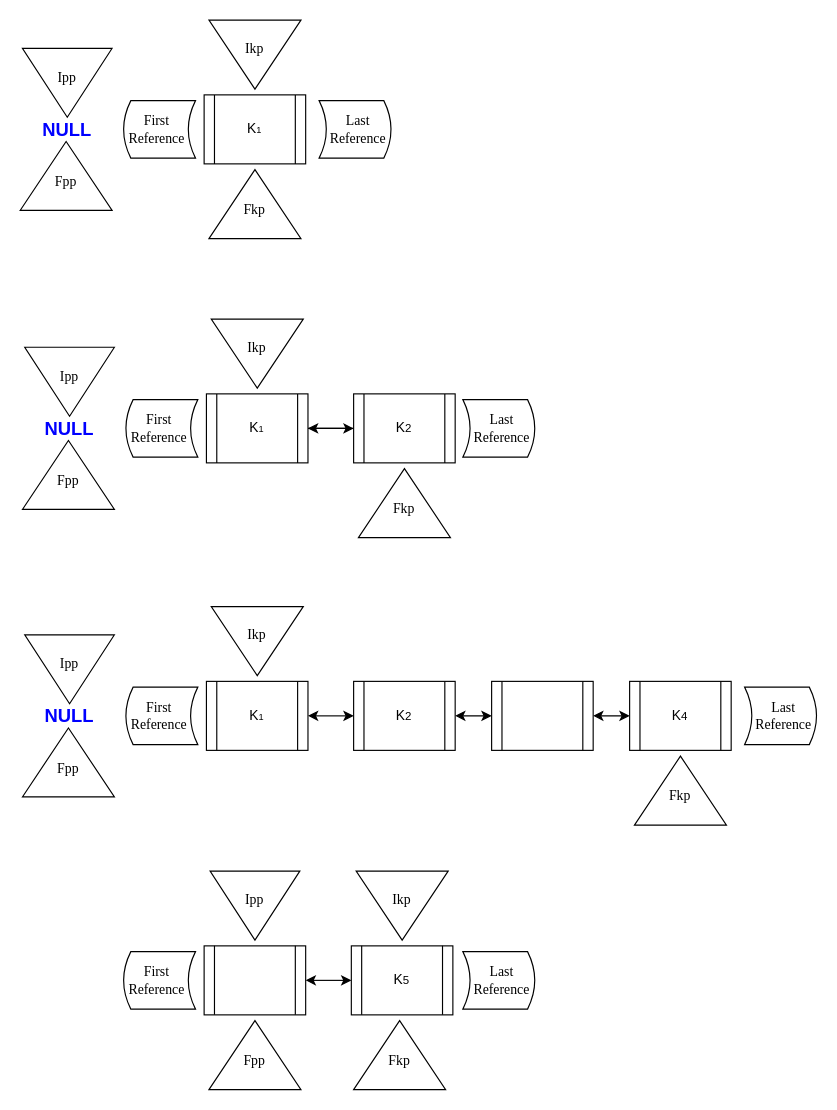
The diagram is 837 pixels wide and 1110 high, and some of its shapes have lost their labels. The shapes that lost their labels are listed below. From the top down, each one's centre as x and y in pixels, then its label:
point (541, 715): K 3
point (254, 980): Kp 1
